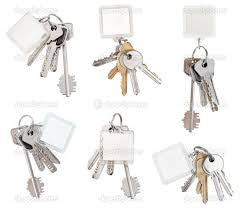key: (123, 48, 166, 86)
